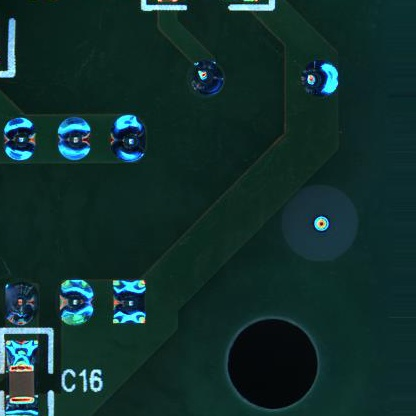spot: (112, 110, 151, 166), (110, 276, 152, 327), (2, 116, 45, 163), (59, 277, 97, 327), (296, 58, 342, 99), (54, 114, 92, 160), (187, 60, 229, 99), (4, 279, 38, 327)
